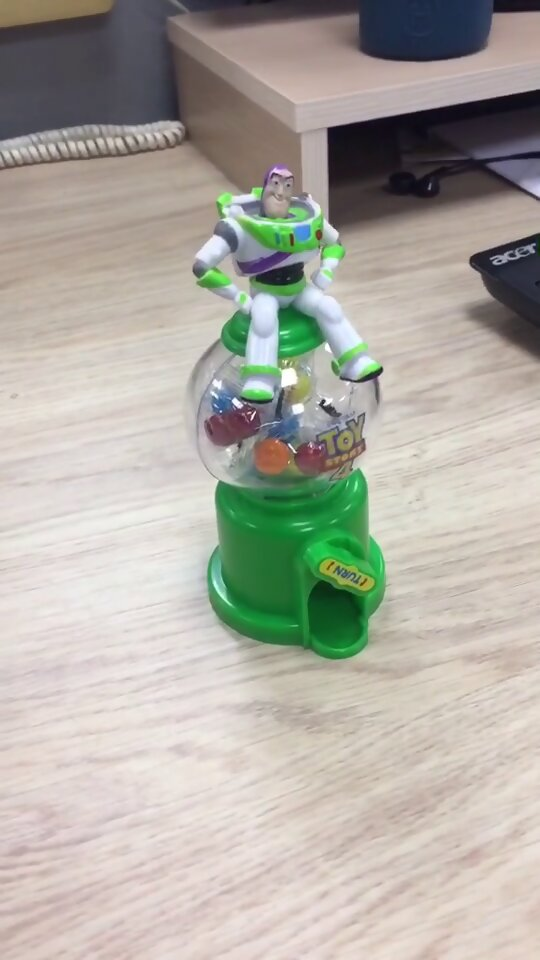buzz: (180, 158, 395, 661)
